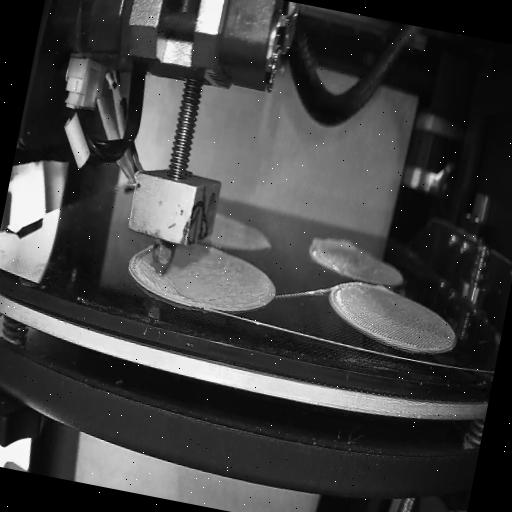over_extrusion: (308, 228, 359, 261), (120, 262, 158, 294), (132, 242, 154, 259), (372, 282, 392, 294)
